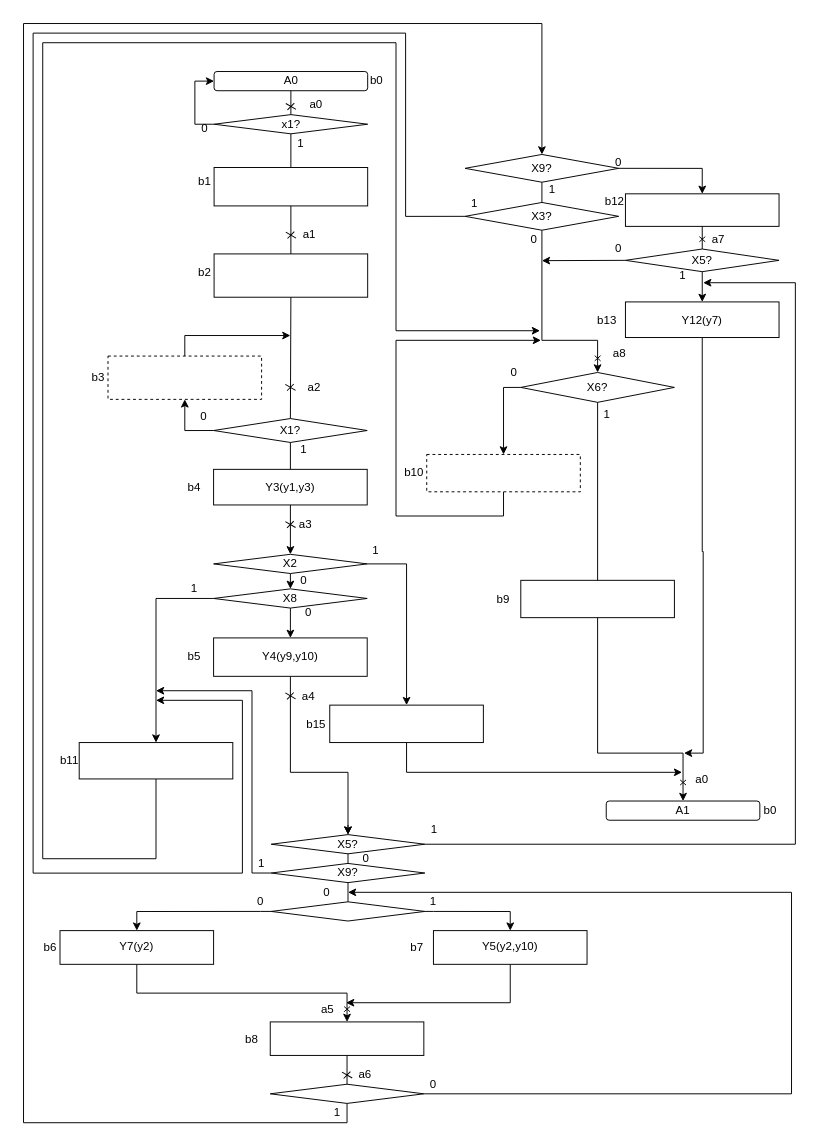
The diagram is 820 pixels wide and 1147 high, and some of its shapes have lost their labels. The centre of each missing label's shape, as x and y in pixels:
X4?: (347,911)
X7?: (346,1093)
Y1(y1,y3,y5,y11): (290,186)
Y10(y0,y11): (155,760)
Y11(y8): (701,209)
Y2(y2,y6,y9): (290,275)
Y6(y4): (346,1038)
Y8(y12): (597,598)
Y9(y6): (406,723)
